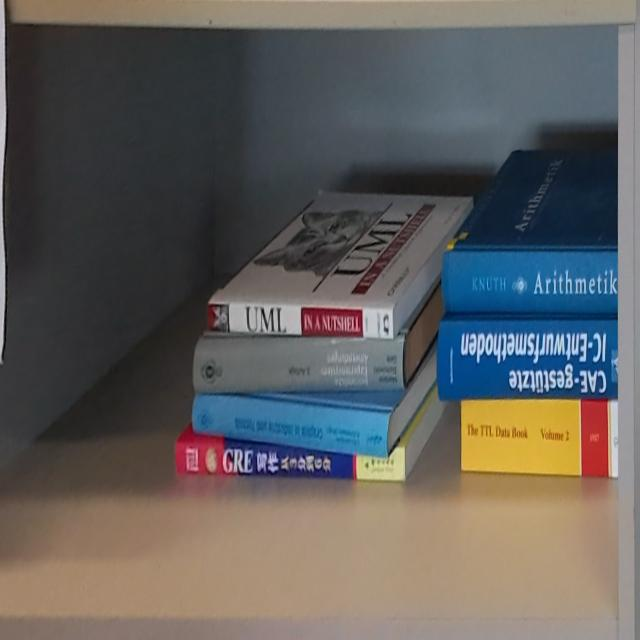Book Spine: (436, 319, 617, 401), (191, 395, 392, 457), (462, 401, 618, 478), (444, 248, 617, 314), (193, 337, 406, 388), (176, 437, 406, 482), (207, 302, 395, 338)
